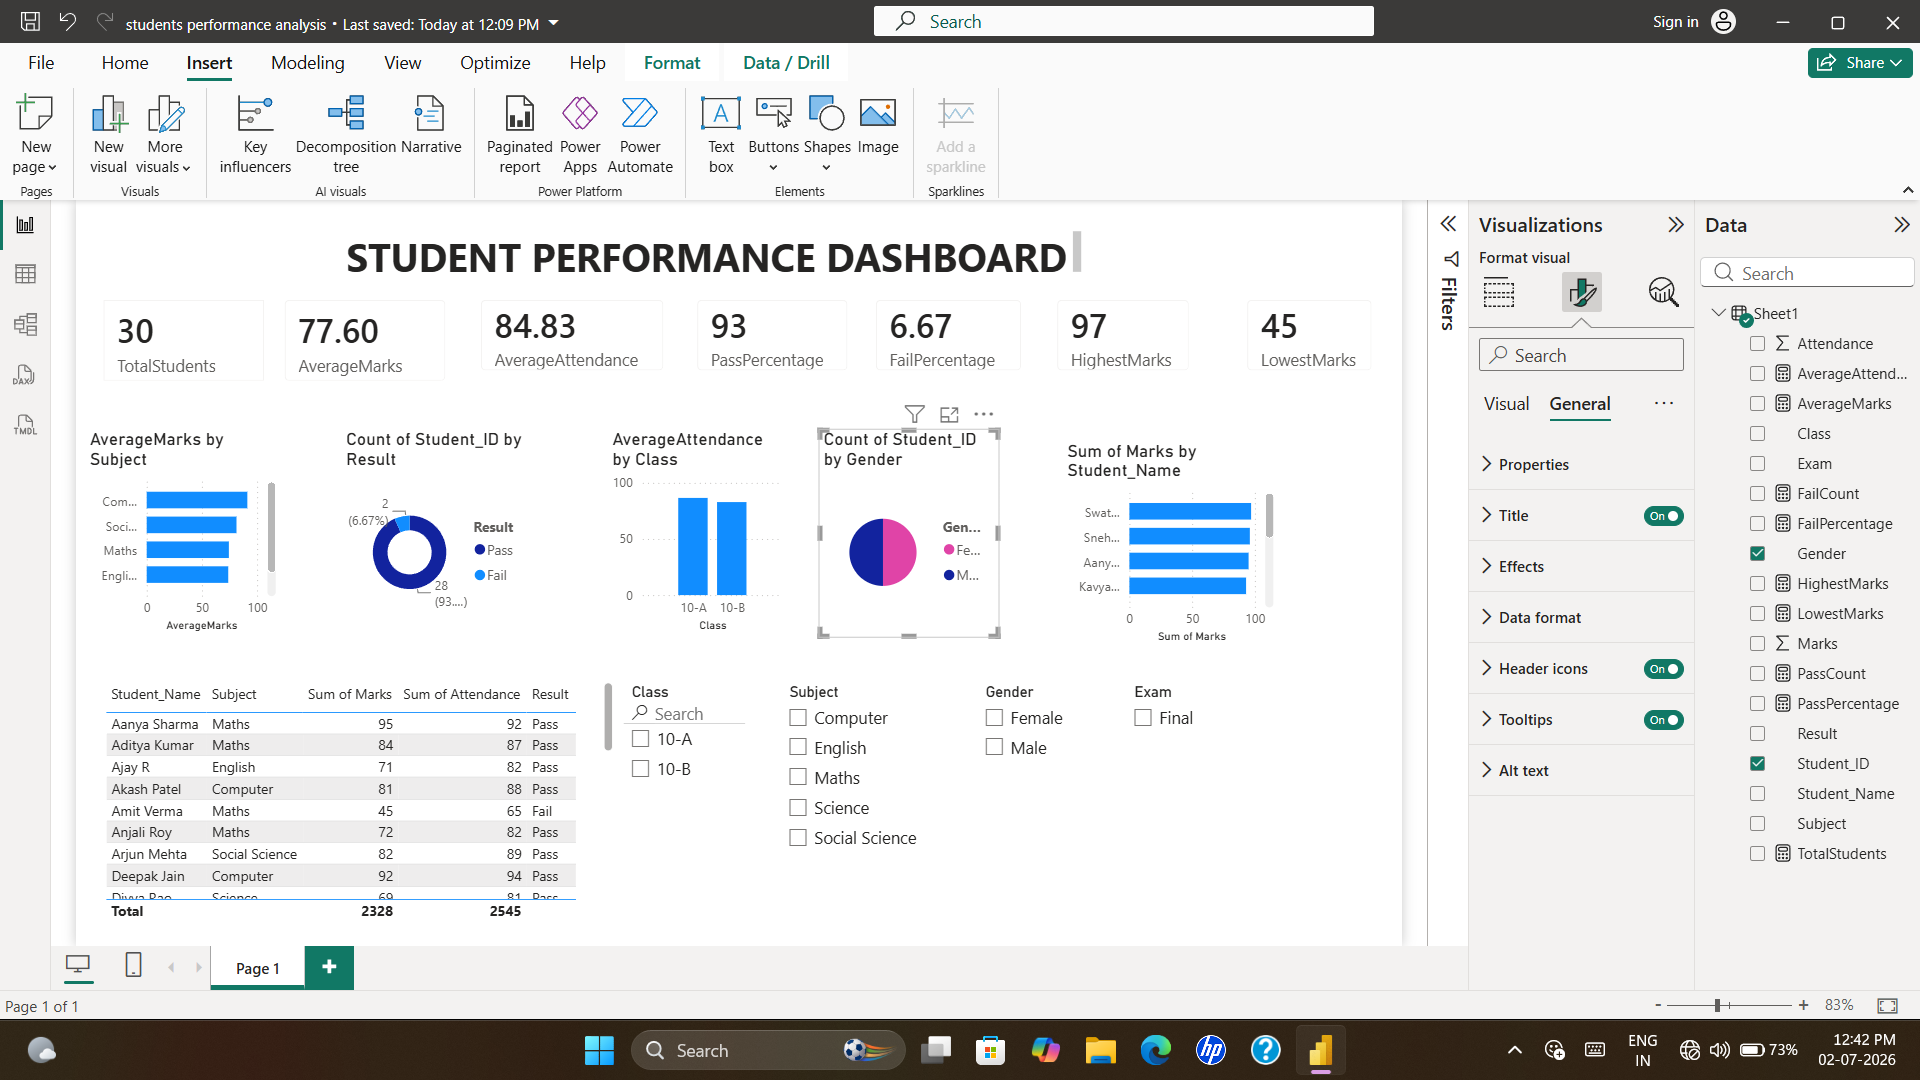

The dashboard page shown, as its layout file describes it:
{"tool":"powerbi","page":{"name":"Page 1","canvas":[1280,720],"ordinal":0},"visuals":[{"type":"cardVisual","fields":{"Data":["Sheet1.TotalStudents"]},"box":[9.8,79.5,189.5,112.5],"z":0},{"type":"cardVisual","fields":{"Data":["Sheet1.AverageMarks"]},"box":[184.6,79.5,189.5,112.5],"z":1000},{"type":"cardVisual","fields":{"Data":["Sheet1.AverageAttendance"]},"box":[374.2,79.5,210.3,102.7],"z":2000},{"type":"cardVisual","fields":{"Data":["Sheet1.PassPercentage"]},"box":[583.3,79.5,179.8,102.7],"z":3000},{"type":"cardVisual","fields":{"Data":["Sheet1.FailPercentage"]},"box":[755.7,79.5,174.9,102.7],"z":4000},{"type":"cardVisual","fields":{"Data":["Sheet1.HighestMarks"]},"box":[930.6,79.5,161.4,102.7],"z":5000},{"type":"cardVisual","fields":{"Data":["Sheet1.LowestMarks"]},"box":[1114,79.5,154.1,102.7],"z":6000},{"type":"hundredPercentStackedColumnChart","fields":{"Category":["Sheet1.Subject"],"Y":["Sheet1.🎓AverageMarks"]},"box":[8.6,221.3,189.5,200.5],"z":7000},{"type":"donutChart","fields":{"Category":["Sheet1.Result"],"Y":["CountNonNull(Sheet1.Student_ID )"]},"box":[255.6,221.3,190.8,200.5],"z":8000},{"type":"clusteredColumnChart","fields":{"Category":["Sheet1.Class "],"Y":["Sheet1.AverageAttendance"]},"box":[512.4,221.3,174.9,200.5],"z":9000},{"type":"pieChart","fields":{"Category":["Sheet1.Gender"],"Y":["CountNonNull(Sheet1.Student_ID )"]},"box":[716.6,221.3,174.9,200.5],"z":10000},{"type":"tableEx","fields":{"Values":["Sheet1.Student_Name","Sheet1.Subject","Sum(Sheet1.Marks)","Sum(Sheet1.Attendance)","Sheet1.Result"]},"box":[23.2,461,500.1,239.7],"z":11000},{"type":"clusteredBarChart","fields":{"Category":["Sheet1.Student_Name"],"Y":["Sum(Sheet1.Marks)"]},"box":[951.4,231.1,209.1,200.5],"z":12000},{"type":"slicer","fields":{"Values":["Sheet1.Class "]},"box":[523.4,461,127.2,239.7],"z":13000},{"type":"slicer","fields":{"Values":["Sheet1.Subject"]},"box":[675,461,174.9,239.7],"z":14000},{"type":"slicer","fields":{"Values":["Sheet1.Gender"]},"box":[864.5,461,132.1,239.7],"z":15000},{"type":"slicer","fields":{"Values":["Sheet1.Exam"]},"box":[1009,461,209,240],"z":16000},{"type":"textbox","box":[100.3,12.2,299.6,67.3],"z":17000},{"type":"textbox","box":[255.6,25.7,719,53.8],"z":18000}]}

Visuals, with their boxes on the page's 1280x720 design canvas (x1, y1, x2, y2). These are canvas units, not pixel positions in the 1920x1080 screenshot, which may show the page scaled, cropped or inside an application window:
cardVisual - Sheet1.TotalStudents: x1=10, y1=80, x2=199, y2=192
cardVisual - Sheet1.AverageMarks: x1=185, y1=80, x2=374, y2=192
cardVisual - Sheet1.AverageAttendance: x1=374, y1=80, x2=584, y2=182
cardVisual - Sheet1.PassPercentage: x1=583, y1=80, x2=763, y2=182
cardVisual - Sheet1.FailPercentage: x1=756, y1=80, x2=931, y2=182
cardVisual - Sheet1.HighestMarks: x1=931, y1=80, x2=1092, y2=182
cardVisual - Sheet1.LowestMarks: x1=1114, y1=80, x2=1268, y2=182
hundredPercentStackedColumnChart - Sheet1.Subject x Sheet1.🎓AverageMarks: x1=9, y1=221, x2=198, y2=422
donutChart - Sheet1.Result x CountNonNull(Sheet1.Student_ID ): x1=256, y1=221, x2=446, y2=422
clusteredColumnChart - Sheet1.Class  x Sheet1.AverageAttendance: x1=512, y1=221, x2=687, y2=422
pieChart - Sheet1.Gender x CountNonNull(Sheet1.Student_ID ): x1=717, y1=221, x2=892, y2=422
tableEx - Sheet1.Student_Name x Sheet1.Subject: x1=23, y1=461, x2=523, y2=701
clusteredBarChart - Sheet1.Student_Name x Sum(Sheet1.Marks): x1=951, y1=231, x2=1160, y2=432
slicer - Sheet1.Class : x1=523, y1=461, x2=651, y2=701
slicer - Sheet1.Subject: x1=675, y1=461, x2=850, y2=701
slicer - Sheet1.Gender: x1=864, y1=461, x2=997, y2=701
slicer - Sheet1.Exam: x1=1009, y1=461, x2=1218, y2=701
textbox: x1=100, y1=12, x2=400, y2=80
textbox: x1=256, y1=26, x2=975, y2=80
